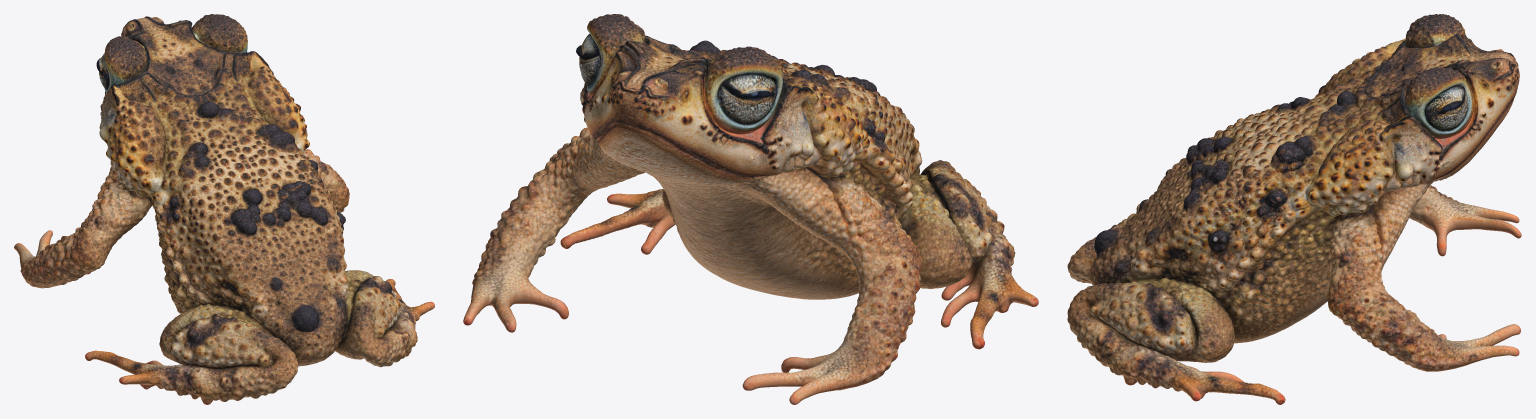
The model's file is anfibios.glb.
3 views of the same model, side by side, from view 1: azimuth 30°, elevation 25°; view 2: azimuth 150°, elevation 25°; view 3: azimuth 270°, elevation 25° (orthographic). The views are drawn at different scales.
Visible parts, largest first — view 1: tripo_node_ef6e9a00-424a-412b-8ed0-3dffdee0d4c0; view 2: tripo_node_ef6e9a00-424a-412b-8ed0-3dffdee0d4c0; view 3: tripo_node_ef6e9a00-424a-412b-8ed0-3dffdee0d4c0.
Part boxes in pixels (x1,y1,x2,y2): tripo_node_ef6e9a00-424a-412b-8ed0-3dffdee0d4c0: [14, 14, 434, 404]; tripo_node_ef6e9a00-424a-412b-8ed0-3dffdee0d4c0: [463, 14, 1038, 404]; tripo_node_ef6e9a00-424a-412b-8ed0-3dffdee0d4c0: [1067, 14, 1521, 404].
Bounding box in the file's own units: 0.8896 × 0.6807 × 0.9787.
Materials: 1 (1 with a texture image).
